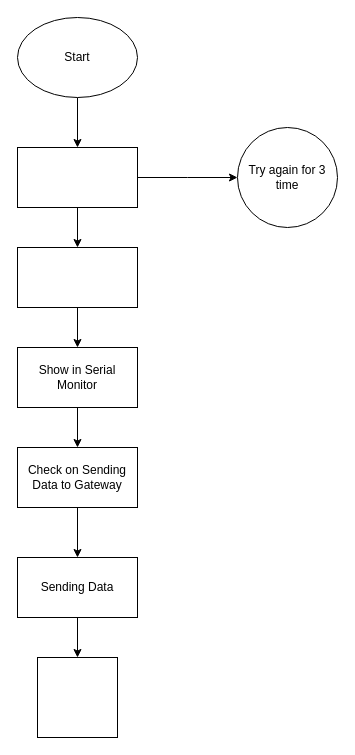
The diagram is 355 pixels wide and 755 high, and some of its shapes have lost their labels. Here are the shapes that lost their labels. From the top down, the centre of each, then its label:
(x=77, y=177): Init LoRa
(x=77, y=277): Read Sensor
(x=77, y=697): End
